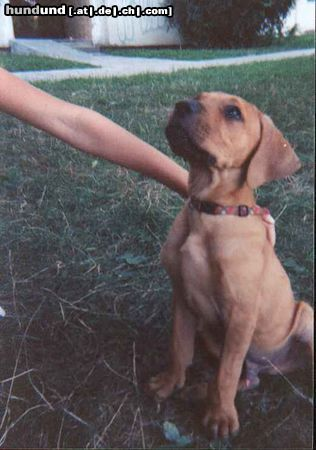tosa_inu: (144, 89, 316, 441)
